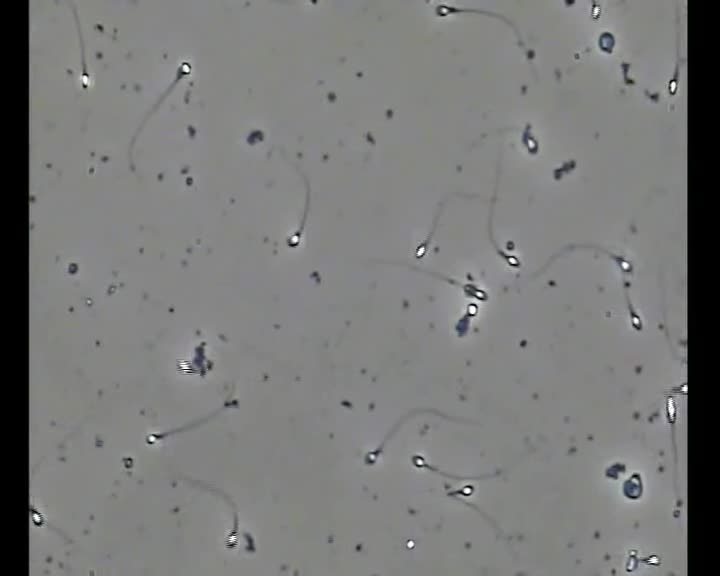spermhead: (232, 524, 254, 552), (623, 473, 642, 499), (521, 124, 538, 153), (463, 282, 487, 300), (597, 31, 615, 54), (605, 462, 625, 479), (455, 313, 469, 336), (433, 4, 457, 17), (620, 61, 633, 85), (624, 550, 638, 572), (665, 396, 675, 426), (193, 340, 207, 360), (177, 60, 192, 77), (502, 253, 519, 268), (617, 256, 632, 273), (666, 73, 677, 95), (29, 507, 41, 527), (365, 449, 380, 464), (287, 230, 301, 246), (457, 484, 474, 497), (416, 240, 428, 258), (183, 362, 198, 376), (145, 433, 162, 445), (630, 312, 641, 330), (562, 159, 576, 173), (465, 302, 478, 317), (412, 455, 426, 468), (590, 0, 599, 20), (553, 166, 565, 180), (79, 72, 90, 87), (641, 555, 655, 566), (523, 48, 535, 60), (223, 398, 238, 407), (122, 457, 133, 469), (504, 240, 515, 252), (678, 385, 687, 396), (407, 538, 416, 549), (86, 297, 93, 308)
